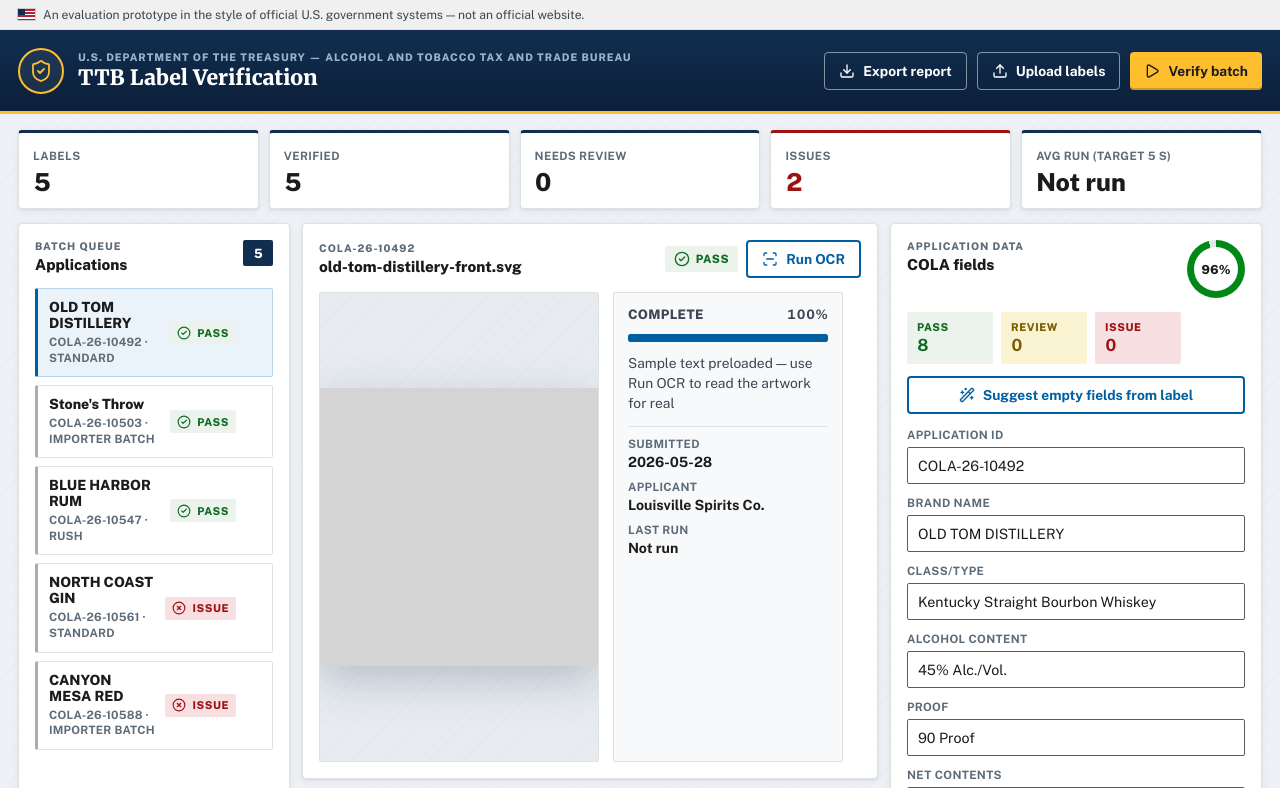
Scenario: App › re-verifies live when application fields change (no stale findings)
Type "COMPLETELY DIFFERENT BRAND" into the field labelled "Brand name" at (1076, 534), box [907,515,1245,552]
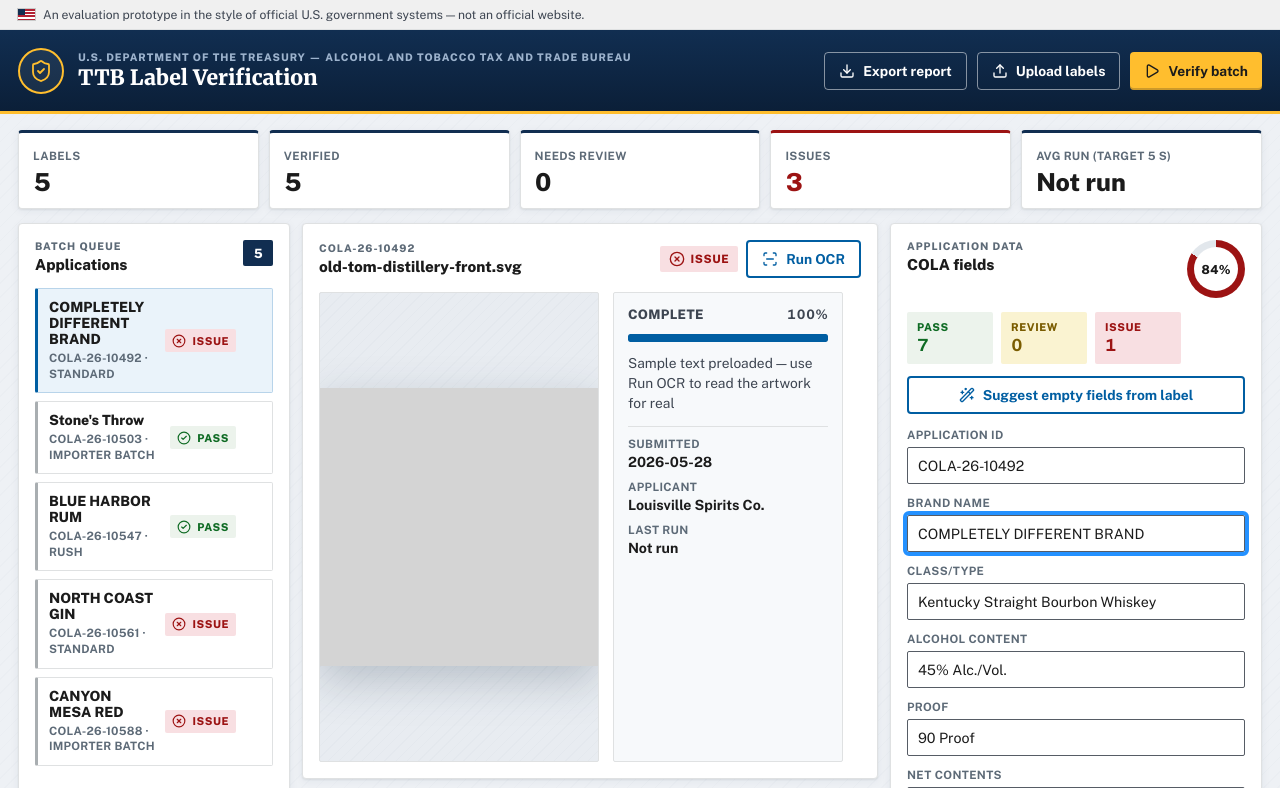
Expected: the 2nd text "Issue" is shown, [166,329,236,352]
